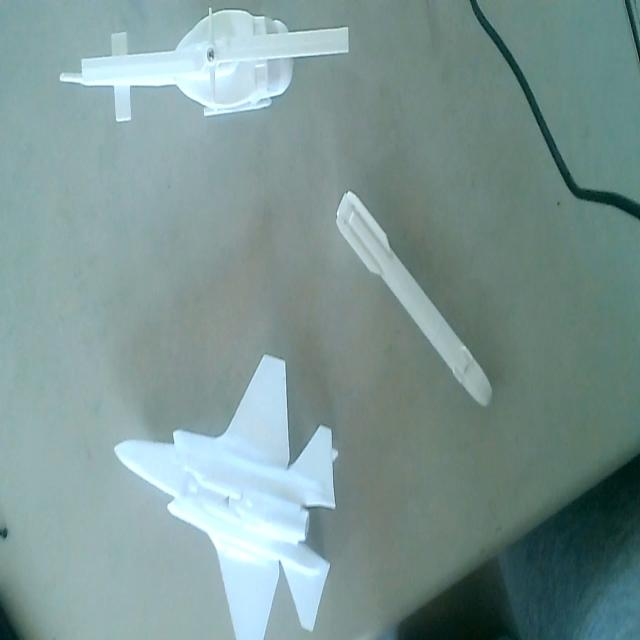Helicopter: (55, 4, 353, 127)
Jet: (111, 352, 340, 640)
Rocket: (333, 188, 492, 405)
